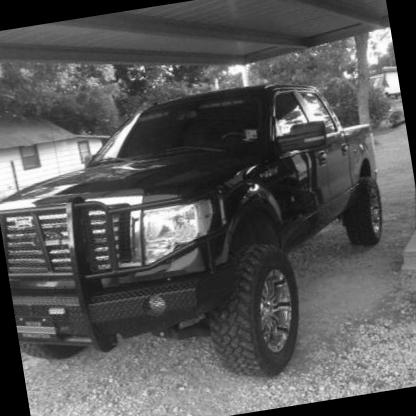truck: (1, 44, 416, 416)
